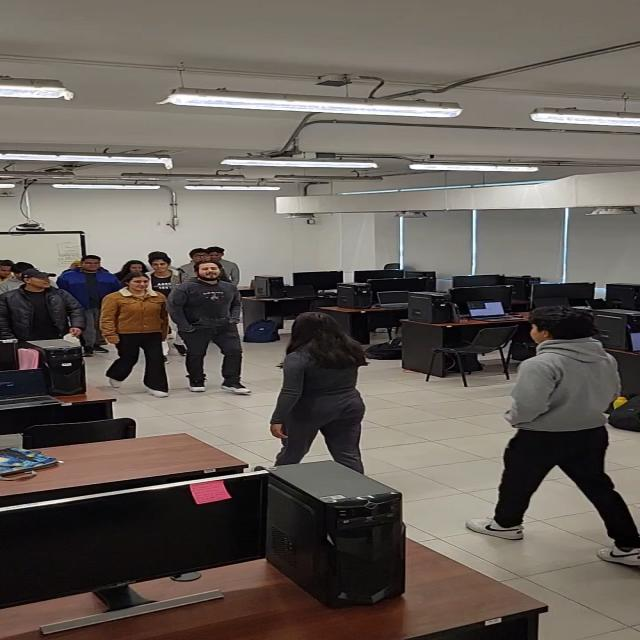Persona: (482, 303, 640, 576), (275, 307, 388, 468), (186, 262, 251, 388), (110, 276, 173, 387), (9, 270, 77, 338), (67, 251, 117, 306), (146, 260, 173, 281)
